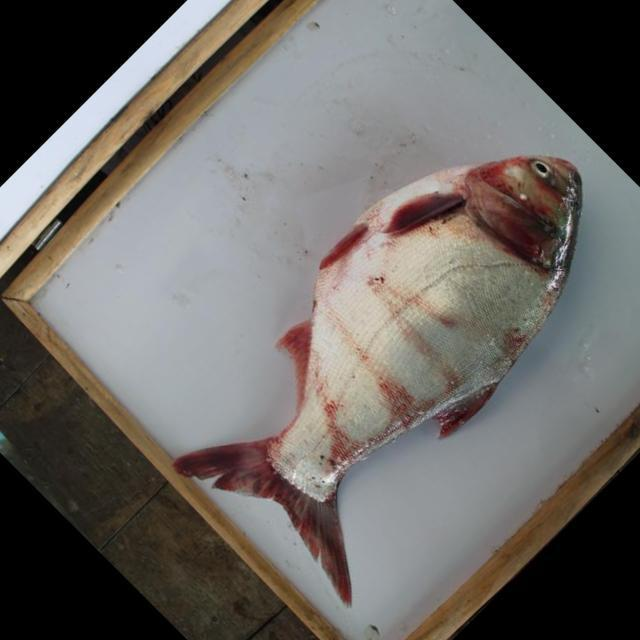SilverCarp: (171, 142, 599, 563)
